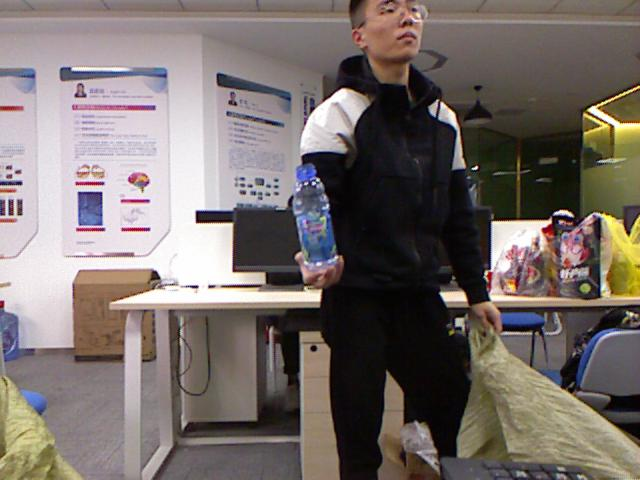cardboard paper: (74, 269, 158, 356)
plastic: (292, 164, 339, 270)
